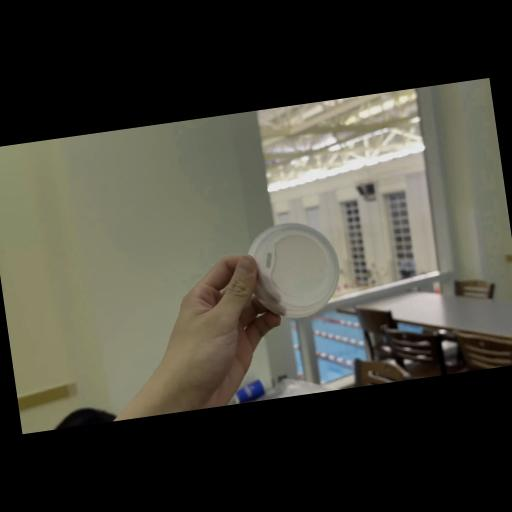lp_cup_lids: (238, 213, 346, 325)
